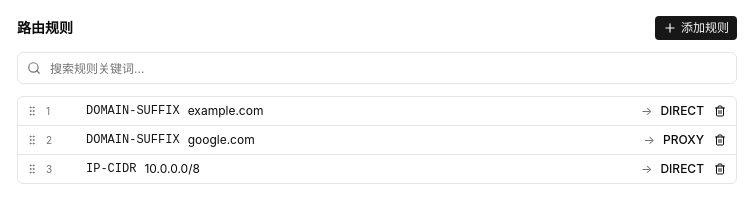
Scenario: RulesEditor component › should filter rules case-insensitively and disable dragging
Type "GOOGLE" into the search field with placeholder "搜索规则关键词..." at coordinates (377, 68), box [17,52,737,84]
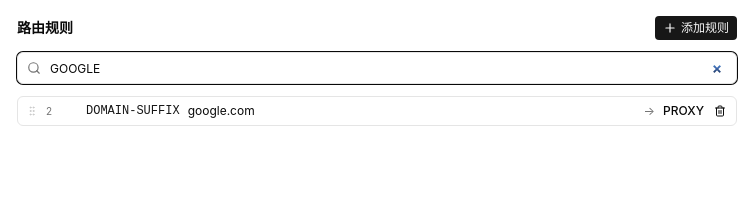
Expected: the text "google.com" is shown, [188,103,255,118]
Now the text "example.com" is gone
Now the button named "搜索时不可排序" is disabled, box [26,105,38,117]
